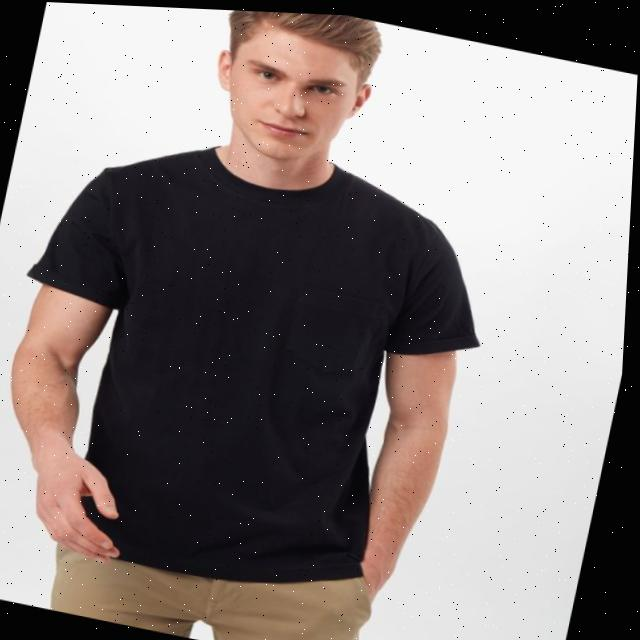Upper-Body: (30, 150, 481, 581)
